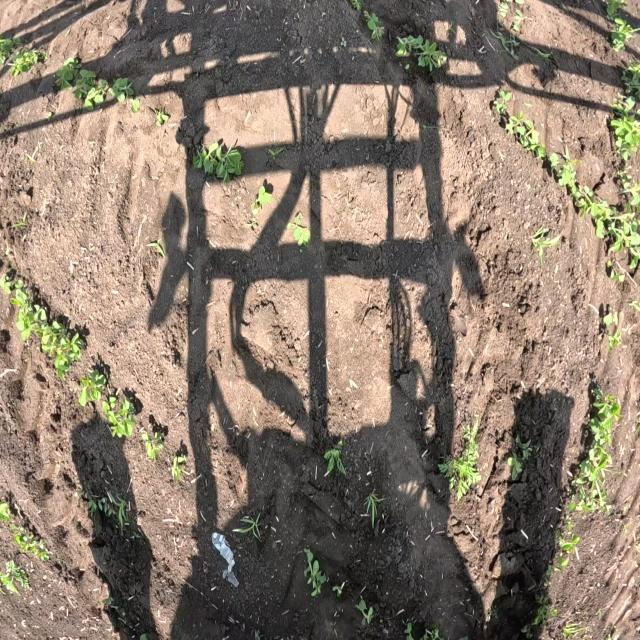plants: (436, 409, 482, 507), (489, 0, 553, 64), (606, 167, 640, 283), (567, 444, 615, 515), (188, 132, 246, 183), (580, 386, 620, 451), (565, 186, 611, 240), (599, 0, 640, 52), (12, 283, 46, 341), (503, 109, 546, 154), (314, 428, 346, 483), (502, 428, 534, 483), (607, 107, 640, 159), (296, 540, 328, 593), (528, 215, 558, 271), (75, 72, 114, 115), (48, 328, 82, 374), (14, 521, 51, 562), (77, 364, 111, 407), (554, 530, 585, 574), (614, 59, 640, 111), (236, 506, 270, 544), (528, 582, 556, 628), (112, 76, 144, 116), (109, 398, 138, 442), (2, 564, 33, 605), (547, 148, 577, 188), (109, 488, 138, 529), (287, 208, 313, 253), (141, 414, 165, 461), (482, 82, 514, 116), (12, 48, 46, 78), (244, 187, 272, 223), (168, 439, 189, 486), (602, 309, 623, 356), (418, 41, 447, 72), (363, 476, 382, 522), (356, 592, 380, 628), (54, 58, 78, 90), (365, 9, 383, 45), (561, 617, 589, 640), (397, 30, 419, 59), (152, 102, 170, 137), (23, 143, 41, 171), (12, 213, 28, 241), (267, 141, 288, 161), (0, 32, 12, 66), (331, 572, 345, 601), (423, 621, 444, 640), (85, 490, 103, 512), (401, 617, 417, 640), (442, 18, 460, 38), (0, 500, 14, 522), (348, 0, 363, 16)
